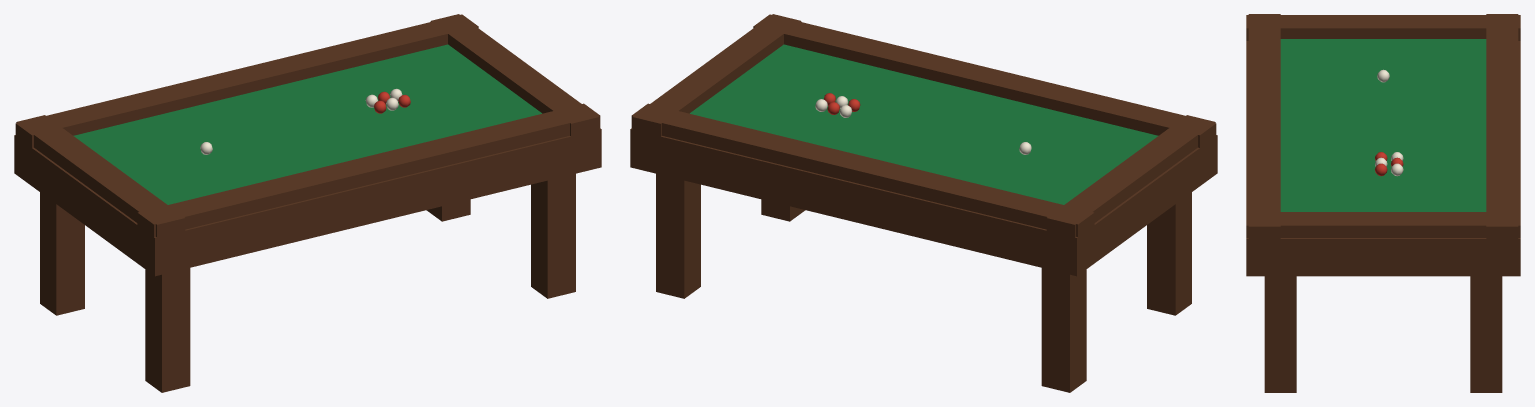
The model's file is pool_table.glb.
3 renders of one model, left to right at view 1: azimuth 30°, elevation 25°; view 2: azimuth 150°, elevation 25°; view 3: azimuth 270°, elevation 25°, orthographic. The views are drawn at different scales.
Visible parts, largest first — view 1: pool_table; view 2: pool_table; view 3: pool_table.
Boxes of the visible parts, bbox=[...] form: pool_table: bbox=[14, 14, 601, 392]; pool_table: bbox=[630, 14, 1217, 392]; pool_table: bbox=[1246, 14, 1520, 392].
Bounding box in the file's own units: 2.2 × 0.848 × 1.2.
